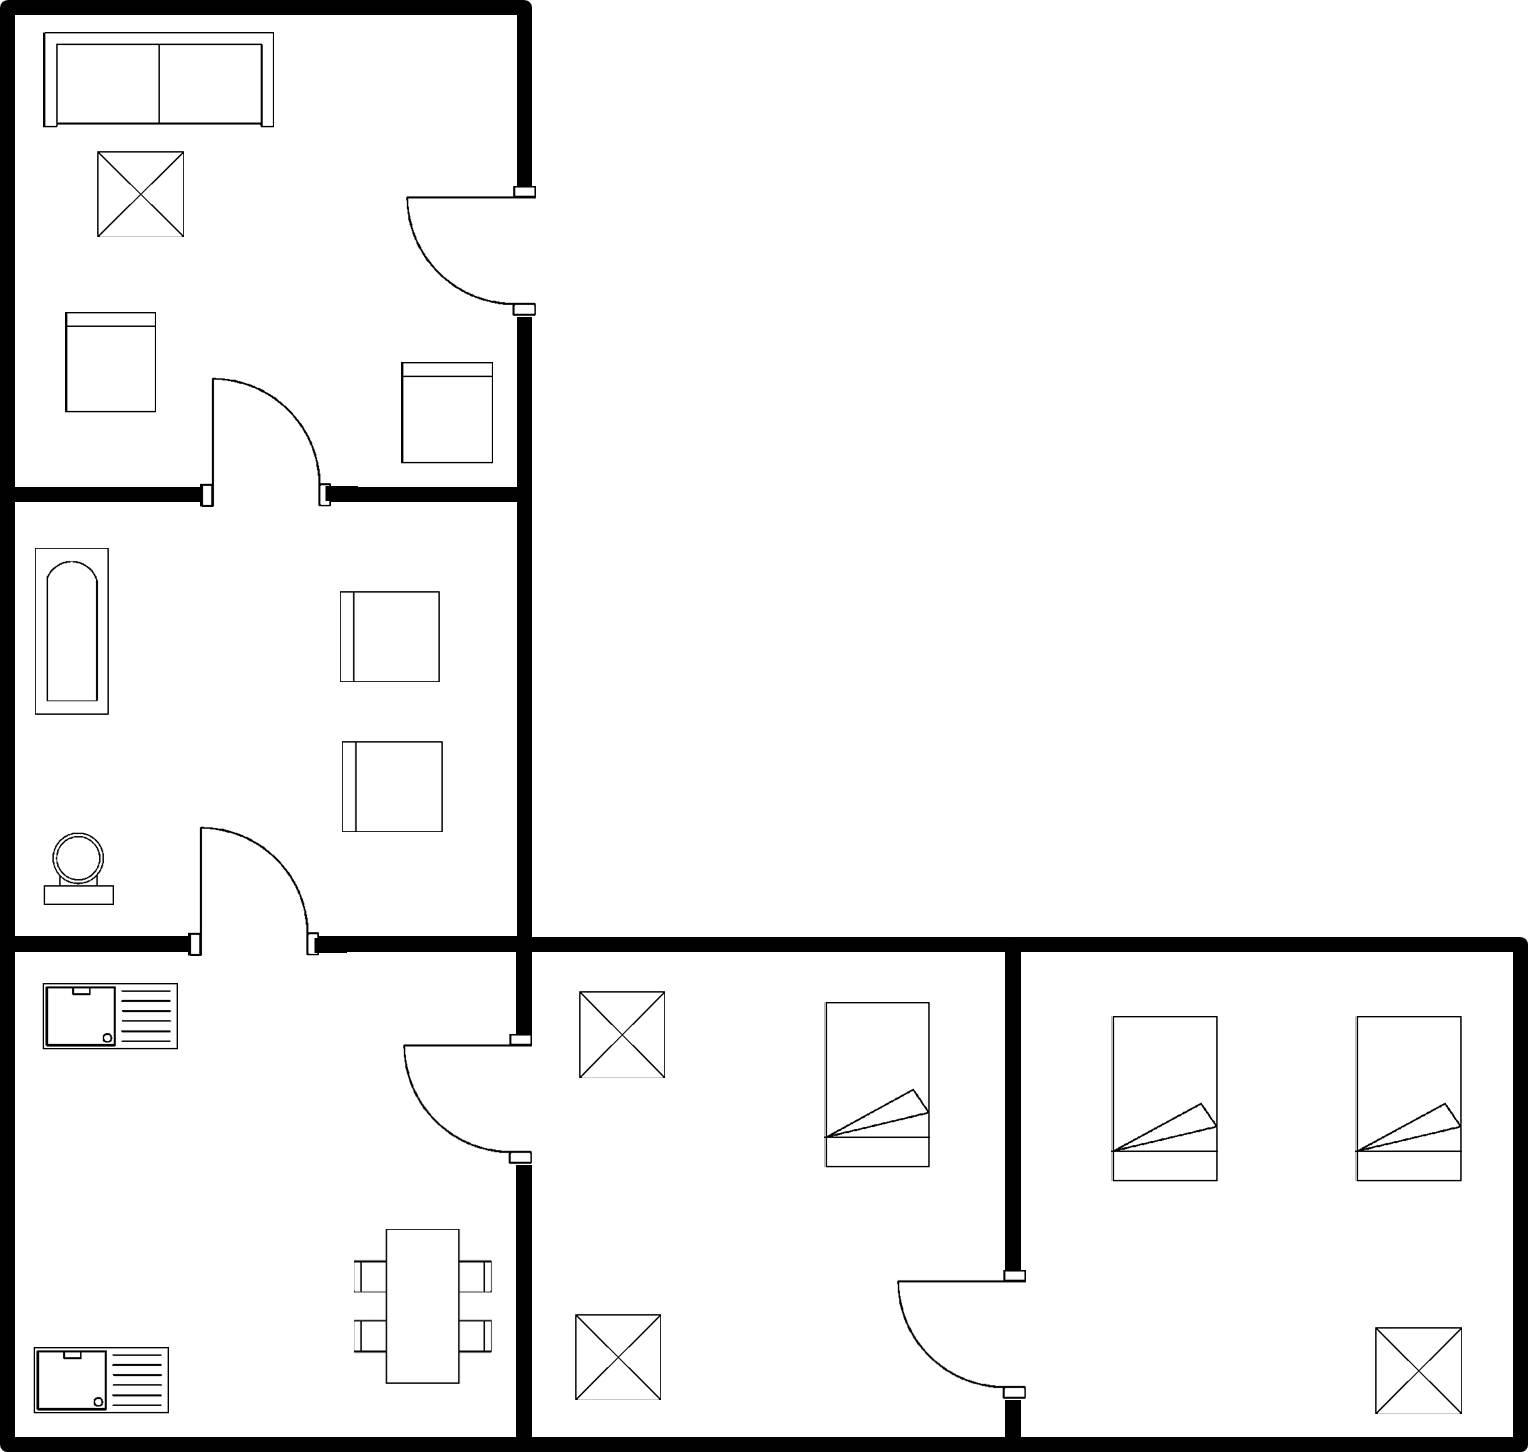bed: (810, 991, 940, 1178), (1342, 1006, 1469, 1195), (1101, 1006, 1229, 1191)
dining_table: (337, 1219, 499, 1392)
sink: (33, 974, 191, 1064), (25, 1339, 175, 1418)
sofa: (33, 22, 282, 136)
toilet: (35, 822, 121, 912)
tub: (25, 539, 117, 722)
